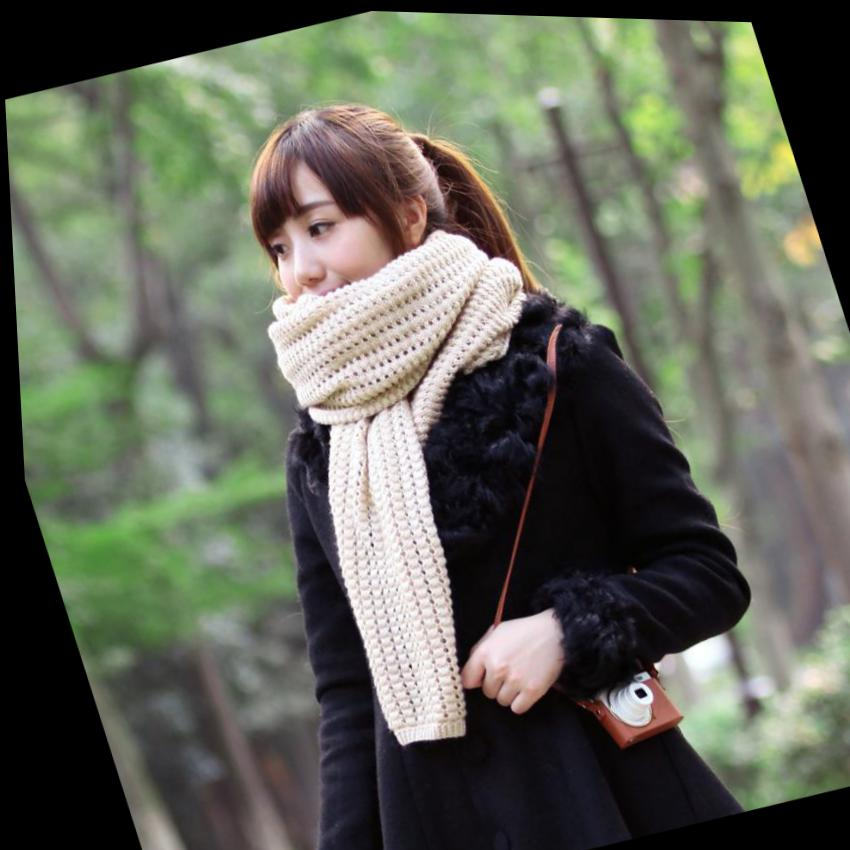WRONG: (246, 169, 417, 355)
